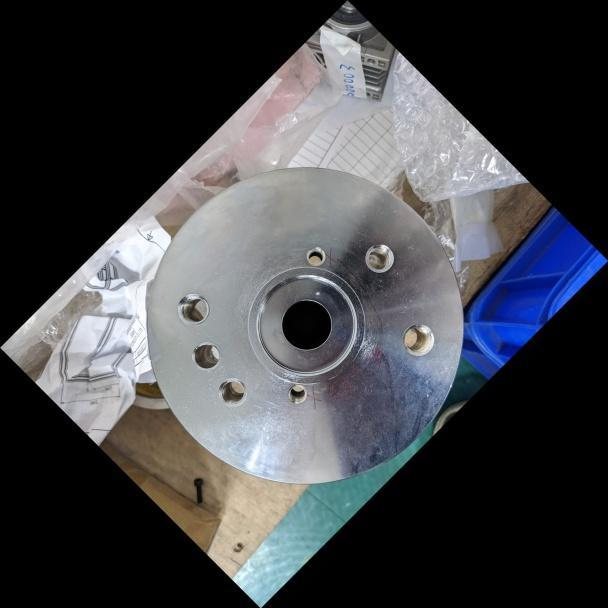hole: (387, 311, 446, 370), (352, 229, 410, 286), (205, 365, 259, 419), (166, 282, 220, 335), (181, 331, 232, 382), (294, 235, 335, 276), (279, 375, 314, 411)
